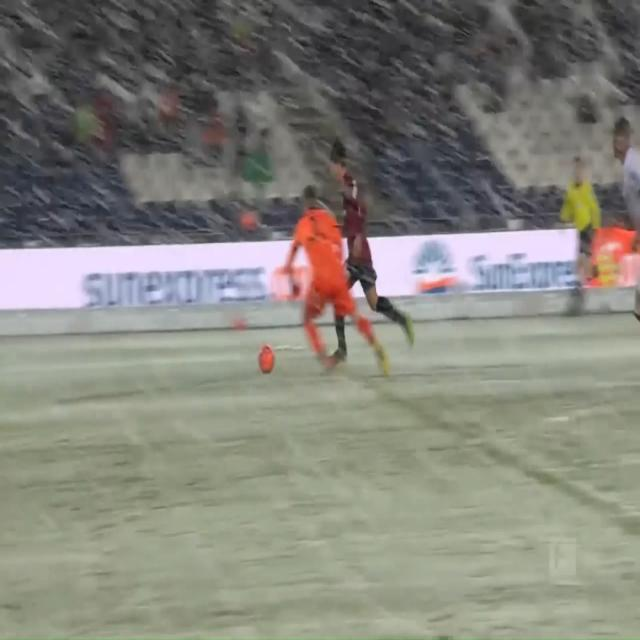ball: (250, 334, 277, 385)
goalkeeper: (271, 179, 365, 399)
player: (323, 125, 414, 369), (606, 109, 640, 323)
referee: (549, 141, 606, 325)
